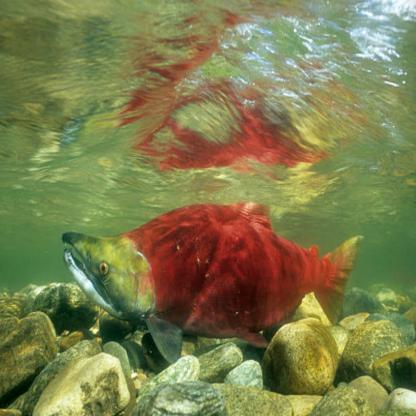sockeye: (60, 195, 368, 340)
